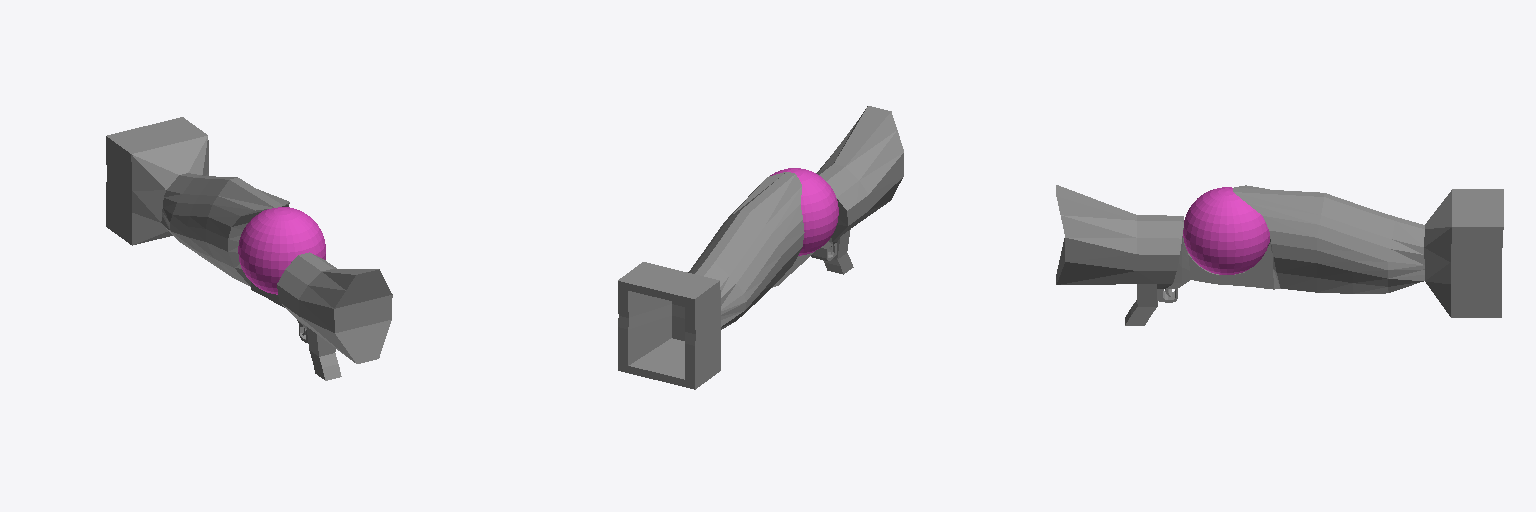
Rendered from gunnn.obj.
The picture shows the model from 3 angles: view 1: azimuth 30°, elevation 25°; view 2: azimuth 150°, elevation 25°; view 3: azimuth 270°, elevation 25°; orthographic projection.
Parts seen in each view (by area): view 1: Box001, Sphere001; view 2: Box001, Sphere001; view 3: Box001, Sphere001.
Boxes of the visible parts, box(x1,y1,x2,y2) form: Box001: box(106, 117, 392, 380); Sphere001: box(238, 207, 325, 294); Box001: box(618, 106, 903, 389); Sphere001: box(770, 168, 838, 255); Box001: box(1056, 185, 1503, 325); Sphere001: box(1183, 187, 1269, 274).
Size of the model in its own units: 12.31 by 20.18 by 61.79.